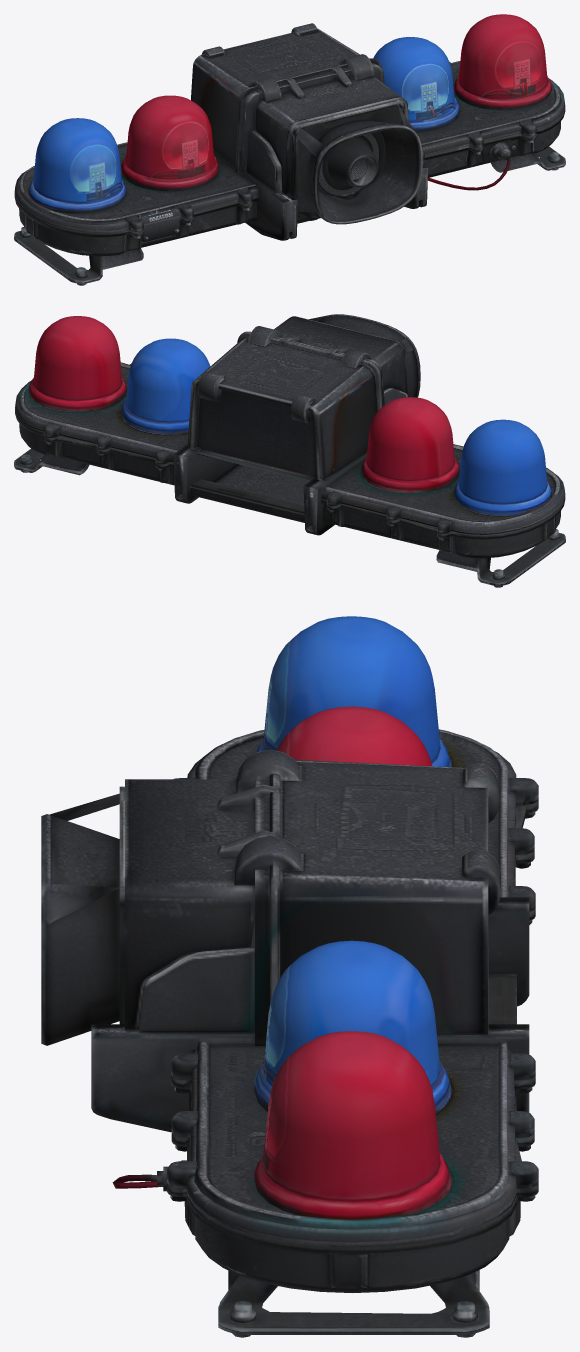
The model's file is SM_PoliceLightBar.fbx.
The picture shows the model from 3 angles, top to bottom: view 1: azimuth 30°, elevation 25°; view 2: azimuth 150°, elevation 25°; view 3: azimuth 270°, elevation 25°; orthographic projection. The views are drawn at different scales.
Visible parts, largest first — view 1: d4eeede5_05da_40e4_98a2_8b06ea3070e3; view 2: d4eeede5_05da_40e4_98a2_8b06ea3070e3; view 3: d4eeede5_05da_40e4_98a2_8b06ea3070e3.
Part boxes in pixels (<box>): d4eeede5_05da_40e4_98a2_8b06ea3070e3: <box>14,14,565,285</box>; d4eeede5_05da_40e4_98a2_8b06ea3070e3: <box>14,314,565,587</box>; d4eeede5_05da_40e4_98a2_8b06ea3070e3: <box>41,616,538,1337</box>.
Bounding box in the file's own units: 0.9995 × 0.2778 × 0.4116.
Materials: 1 (1 with a texture image).
